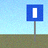sign: (27, 5, 43, 42)
